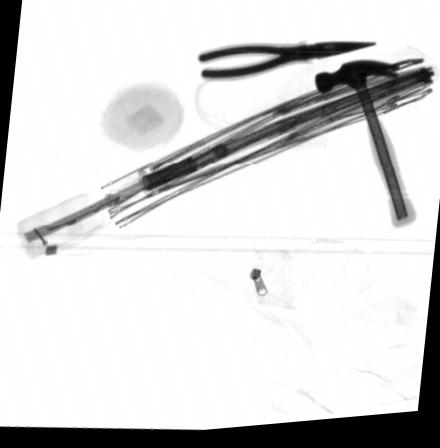Hammer: (315, 66, 417, 237)
Pliers: (198, 44, 377, 84)
